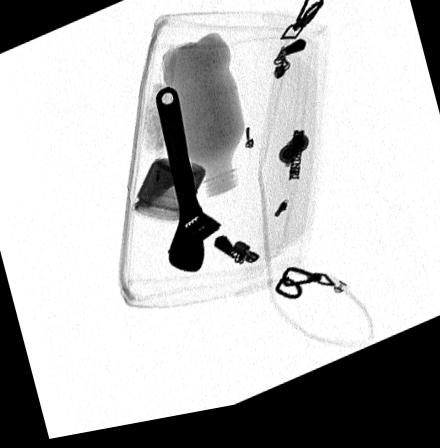Wrench: (153, 91, 219, 278)
